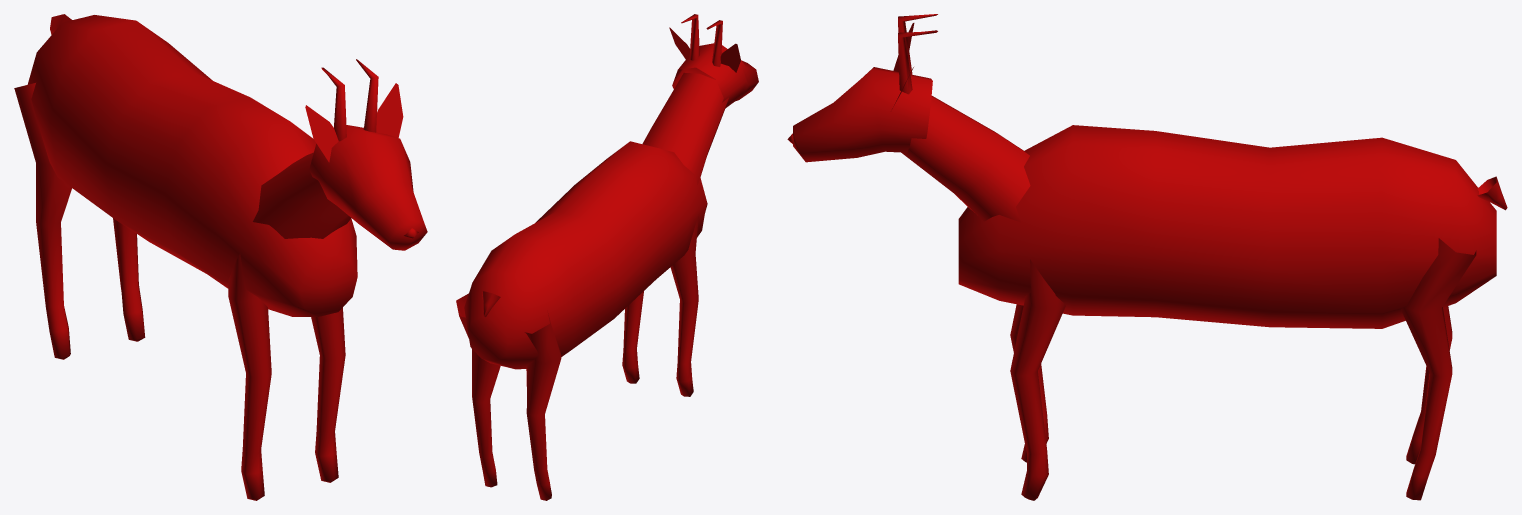
The model's file is chamois.glb.
3 views of the same model, side by side, from view 1: azimuth 30°, elevation 25°; view 2: azimuth 150°, elevation 25°; view 3: azimuth 270°, elevation 25° (orthographic). The views are drawn at different scales.
Visible parts, largest first — view 1: body, head, leg_lf, leg_lh, leg_rf, leg_rh; view 2: body, head, leg_lh, leg_lf, leg_rh, leg_rf; view 3: body, head, leg_rh, leg_rf, leg_lh.
Part boxes in pixels (bbox=[...]): body: bbox=[27, 15, 357, 316]; head: bbox=[253, 59, 427, 250]; leg_lf: bbox=[228, 253, 271, 500]; leg_lh: bbox=[14, 83, 71, 359]; leg_rf: bbox=[311, 307, 345, 482]; leg_rh: bbox=[113, 218, 145, 341]; body: bbox=[464, 141, 707, 369]; head: bbox=[642, 14, 758, 184]; leg_lh: bbox=[524, 313, 561, 500]; leg_lf: bbox=[670, 216, 698, 396]; leg_rh: bbox=[456, 293, 500, 487]; leg_rf: bbox=[622, 291, 643, 383]; body: bbox=[958, 125, 1496, 328]; head: bbox=[787, 14, 1030, 222]; leg_rh: bbox=[1401, 238, 1476, 500]; leg_rf: bbox=[1010, 259, 1065, 500]; leg_lh: bbox=[1406, 306, 1452, 464].
Bounding box in the file's own units: 0.3281 × 1.07 × 1.53.
